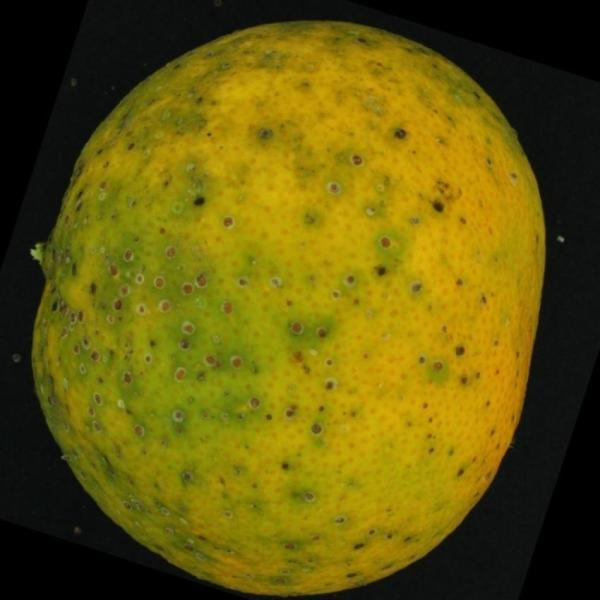Greening: (19, 14, 568, 597)
